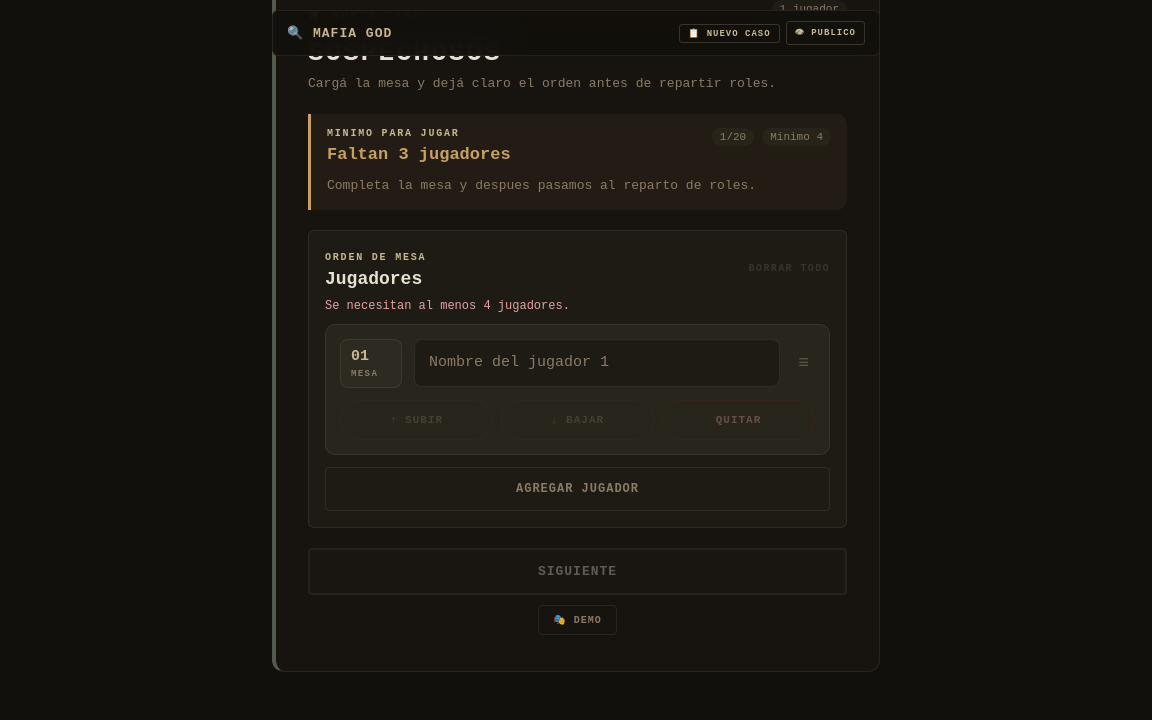
it: App › lets the user cancel the demo prompt and stay in setup
The image size is (1152, 720).
(page scrolled)
Click the button "🎭 DEMO": (578, 620) [538,605,617,635]
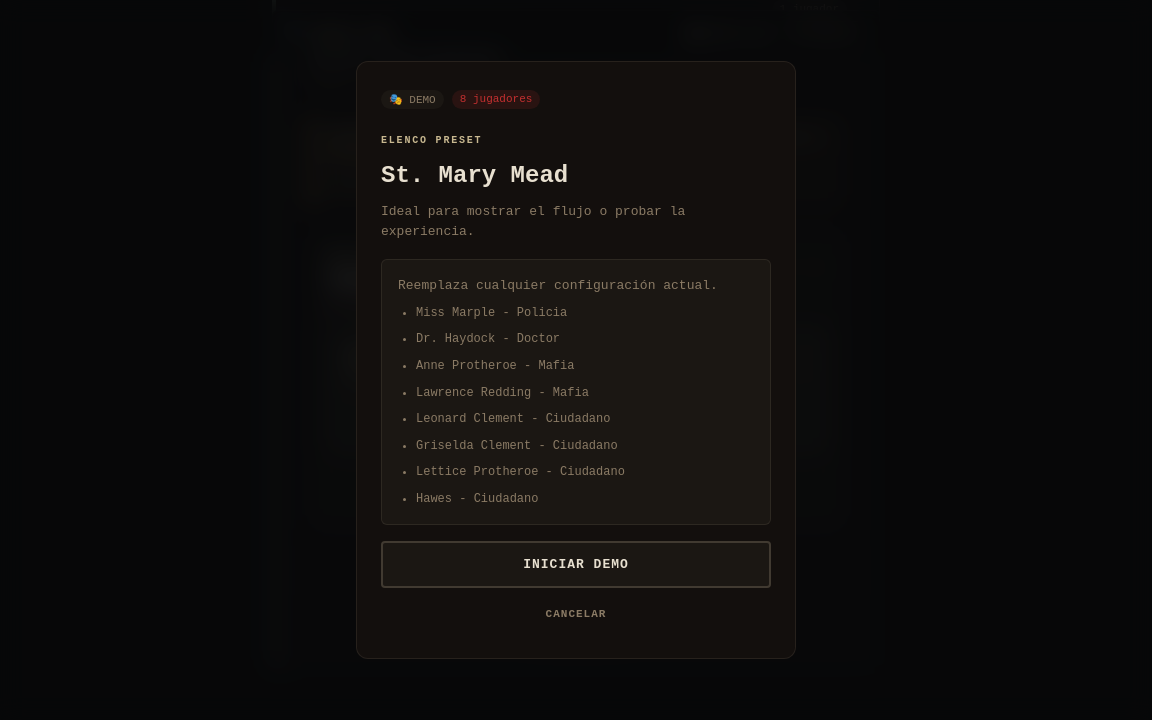
Expected: the dialog shows "St. Mary Mead", [381,162,568,188]
Click the button "Cancelar": (576, 614) [526,598,626,630]
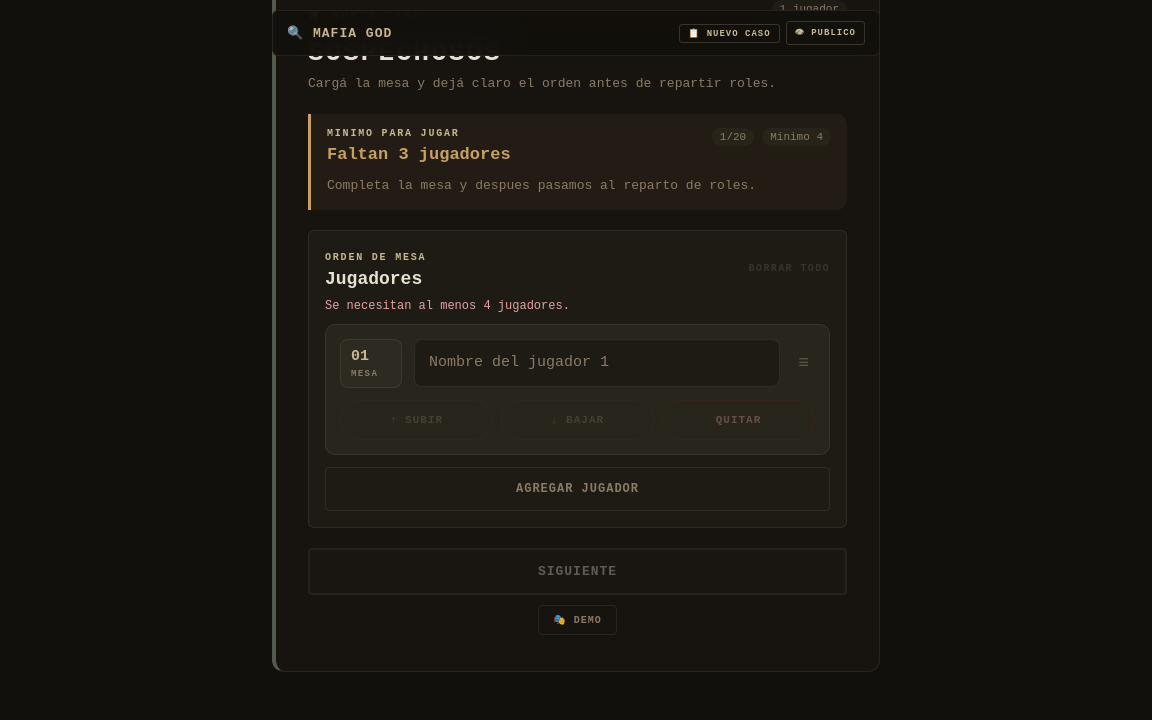
Expected: the heading "Sospechosos" is shown, [308,38,502,68]
Expected: the dialog is gone
